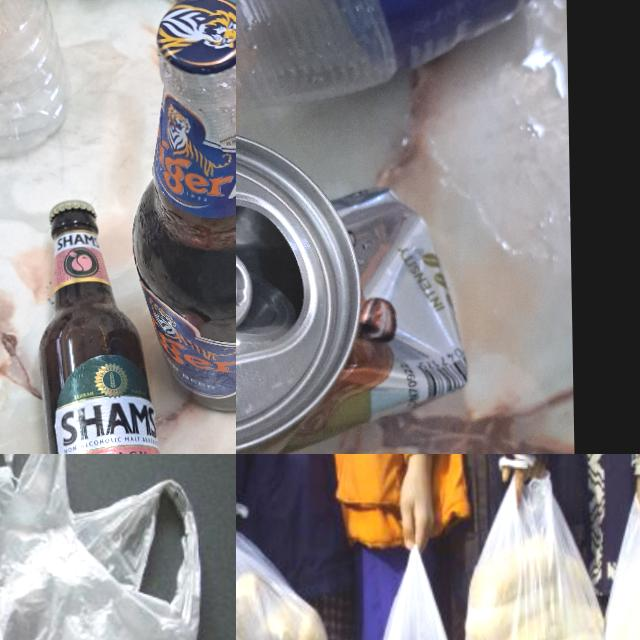garrafa de vidro: (129, 0, 236, 414), (41, 197, 173, 454)
garrafa plástica: (236, 0, 567, 116), (0, 0, 68, 157)
lata: (236, 123, 474, 454)
sacola plástica: (0, 454, 212, 640), (465, 454, 608, 640), (236, 515, 347, 640), (348, 546, 485, 640)
